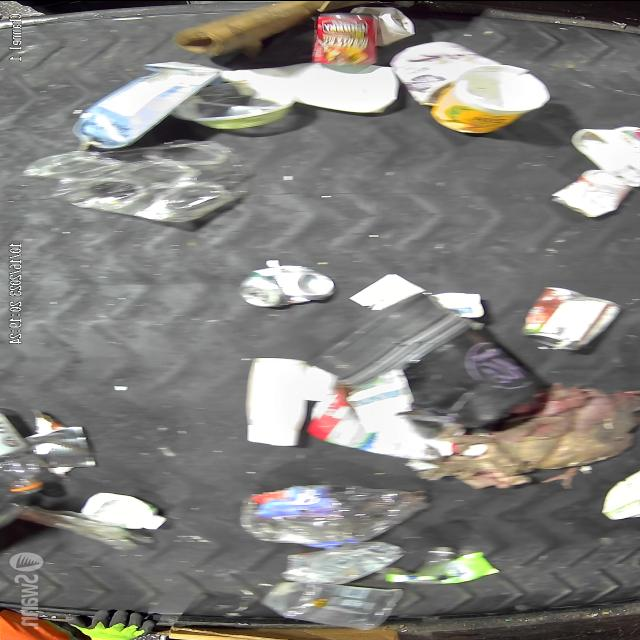can: (518, 282, 624, 354), (232, 255, 344, 309), (307, 13, 387, 70)
plastic_bottle: (233, 484, 425, 540), (0, 404, 52, 500)
